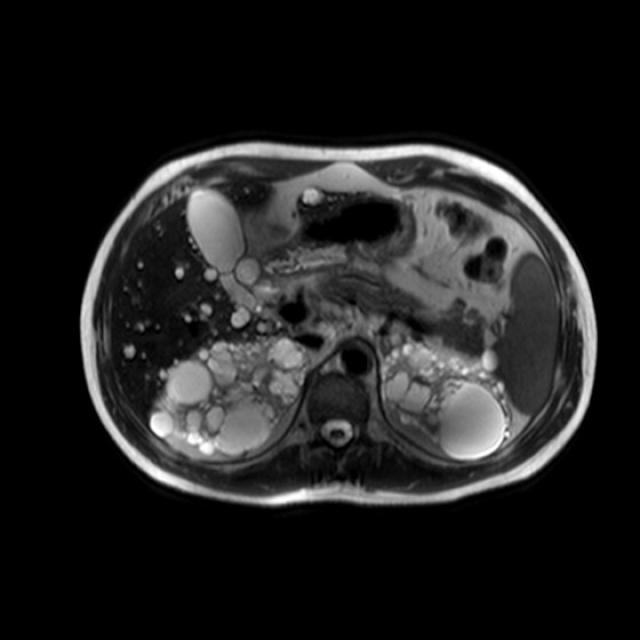sag: (150, 336, 313, 459)
sol: (381, 329, 512, 460)
